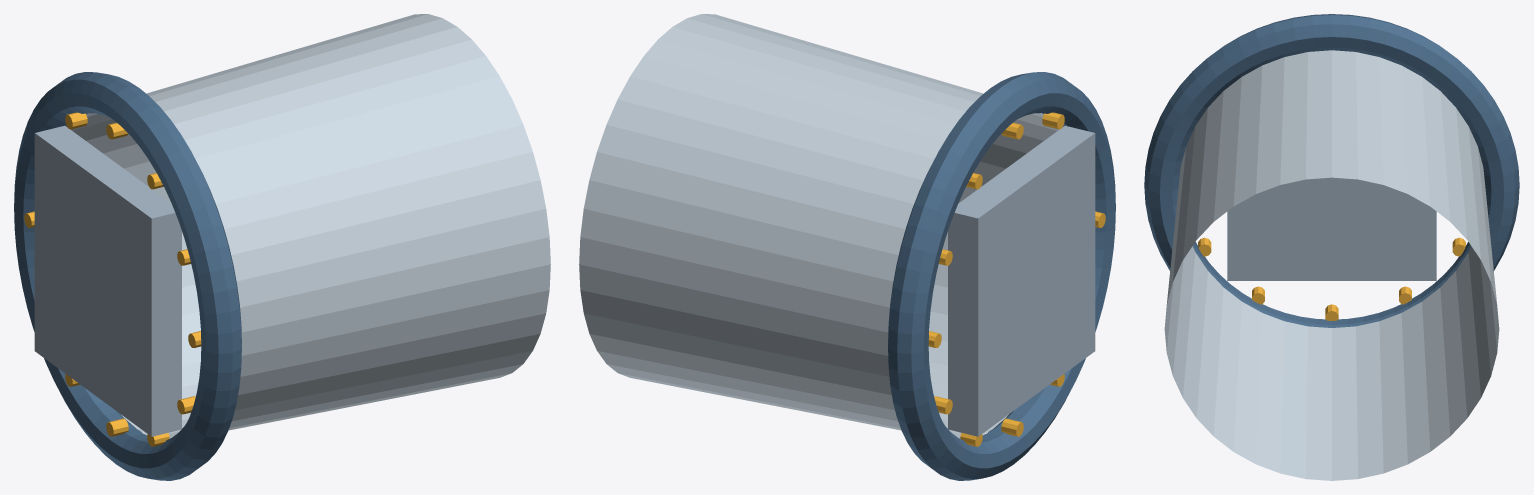
File: 10_L85_StationServiceAirlockModule.fbx
The picture shows the model from 3 angles, left to right: view 1: azimuth 30°, elevation 25°; view 2: azimuth 150°, elevation 25°; view 3: azimuth 270°, elevation 25°; orthographic projection. The views are drawn at different scales.
Visible parts, largest first — view 1: L85_StationServiceAirlockModule, L85_StationServiceAirlockModule_Part_0002, L85_StationServiceAirlockModule_Part_0001, L85_StationServiceAirlockModule_Part_0003; view 2: L85_StationServiceAirlockModule, L85_StationServiceAirlockModule_Part_0002, L85_StationServiceAirlockModule_Part_0001, L85_StationServiceAirlockModule_Part_0003; view 3: L85_StationServiceAirlockModule, L85_StationServiceAirlockModule_Part_0001, L85_StationServiceAirlockModule_Part_0002, L85_StationServiceAirlockModule_Part_0003.
Boxes of the visible parts, <box> form: L85_StationServiceAirlockModule: <box>70,14,550,438</box>; L85_StationServiceAirlockModule_Part_0002: <box>34,125,181,436</box>; L85_StationServiceAirlockModule_Part_0001: <box>14,72,241,480</box>; L85_StationServiceAirlockModule_Part_0003: <box>24,112,201,446</box>; L85_StationServiceAirlockModule: <box>579,14,1059,438</box>; L85_StationServiceAirlockModule_Part_0002: <box>948,125,1095,436</box>; L85_StationServiceAirlockModule_Part_0001: <box>888,72,1115,480</box>; L85_StationServiceAirlockModule_Part_0003: <box>928,112,1105,446</box>; L85_StationServiceAirlockModule: <box>1164,50,1499,480</box>; L85_StationServiceAirlockModule_Part_0001: <box>1144,14,1519,327</box>; L85_StationServiceAirlockModule_Part_0002: <box>1227,177,1436,280</box>; L85_StationServiceAirlockModule_Part_0003: <box>1198,237,1465,320</box>.
Size of the model in its own units: 241 by 240 by 240.
